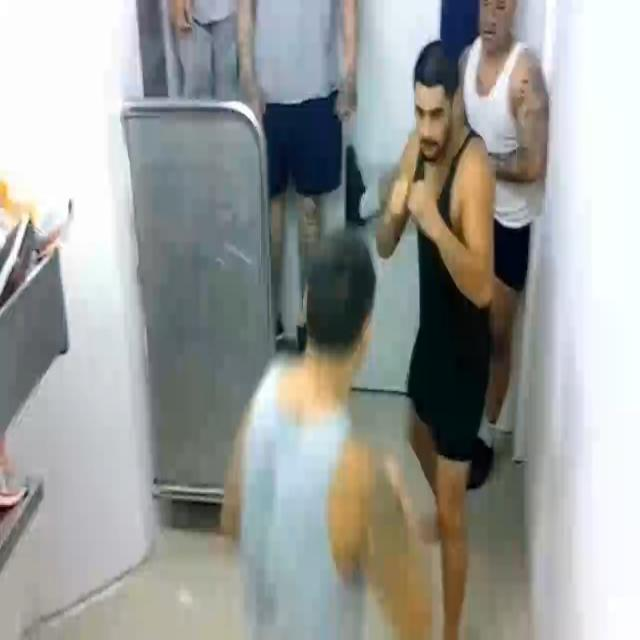fight: (219, 35, 497, 640)
